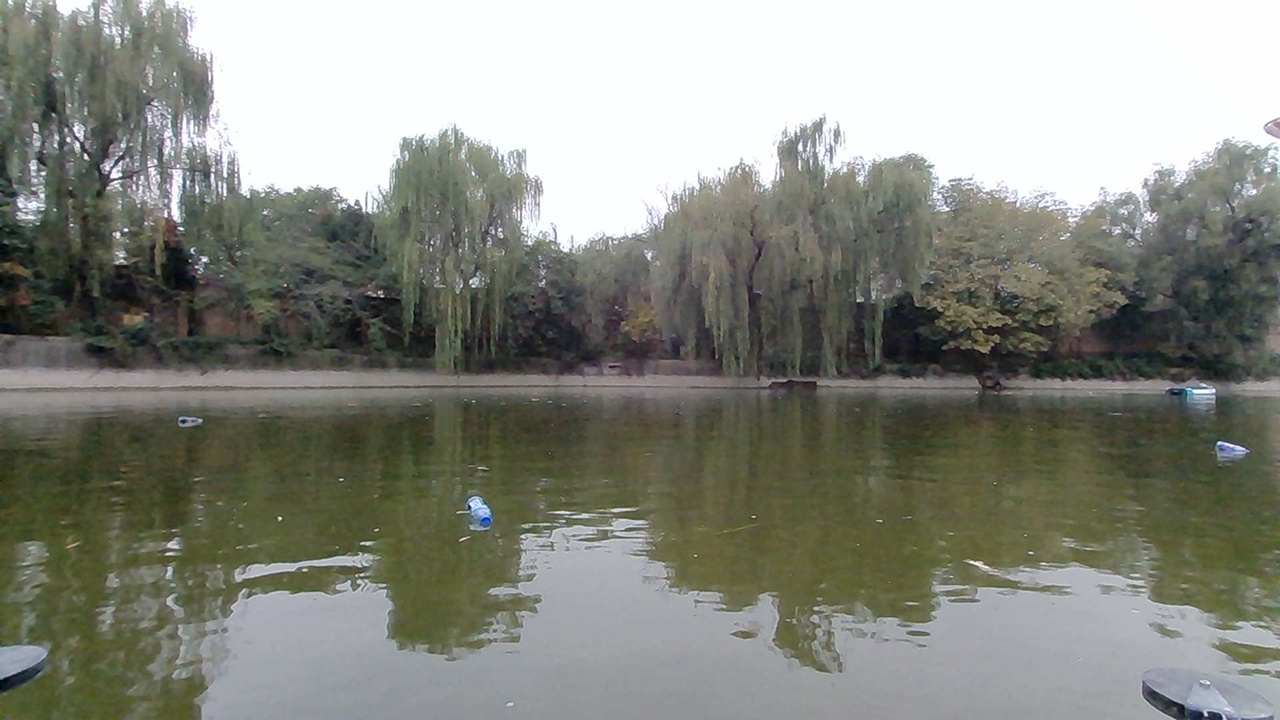bottle: (455, 495, 505, 532), (1207, 437, 1252, 471), (174, 398, 206, 432)
